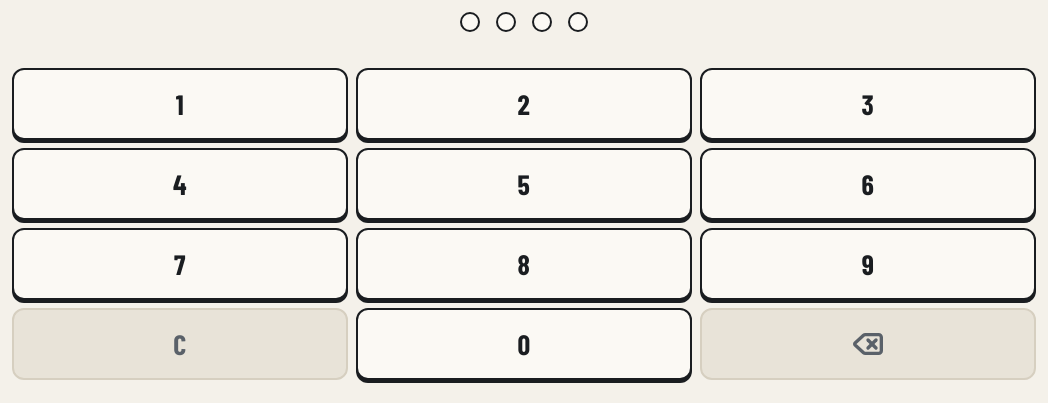
it: TecladoPin › apaga o último dígito
The width and height of the screenshot is (1048, 403).
Click the button "1": (180,104) [12,68,348,140]
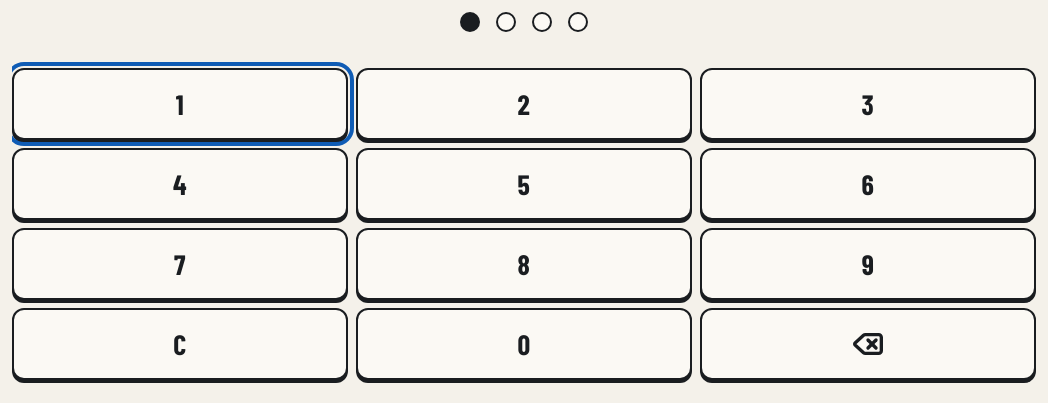
Click the button "2": (524,104) [356,68,692,140]
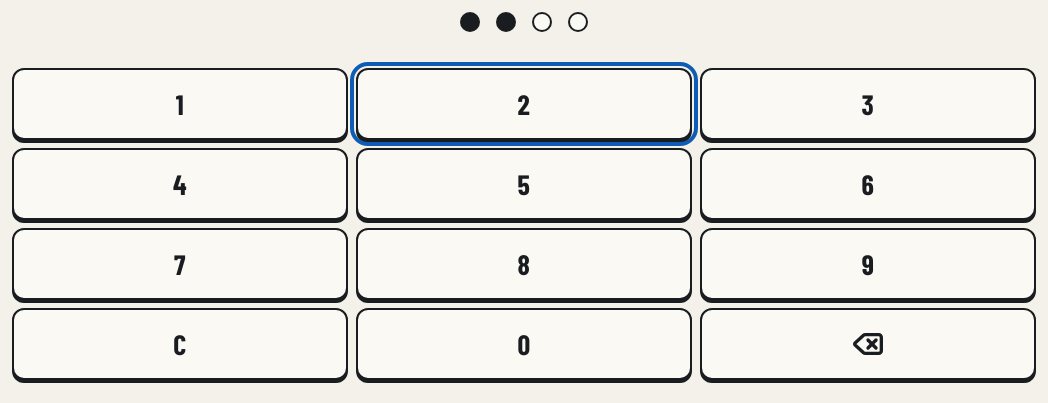
expect the element named "2 de 4 dígitos" is shown: met, box [460,12,588,32]
Click the button named "Apagar último dígito": (868,344) [700,308,1036,380]
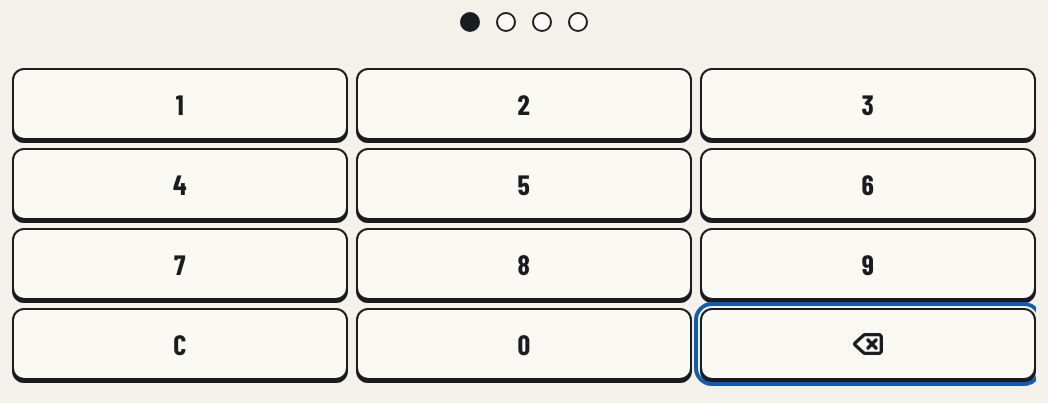
expect the element named "1 de 4 dígitos" is shown: met, box [460,12,588,32]
